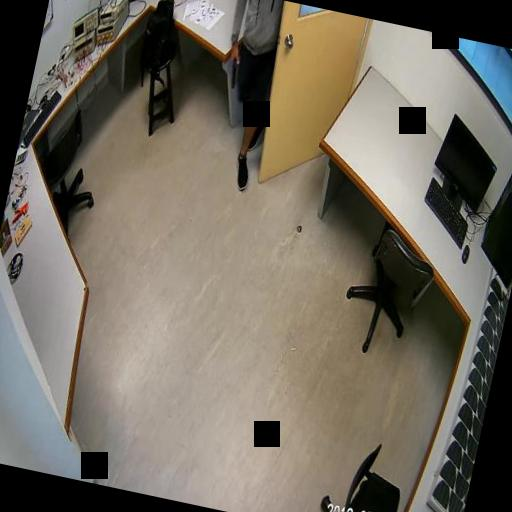Handgun: (223, 50, 240, 88)
